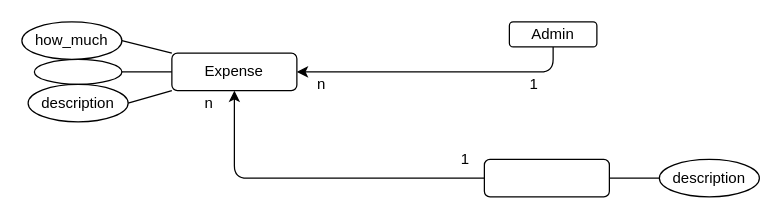
The diagram is 781 pixels wide and 219 high, and some of its shapes have lost their labels. Each missing label, with the centre of its shape:
Category: (546,177)
when: (77,71)
